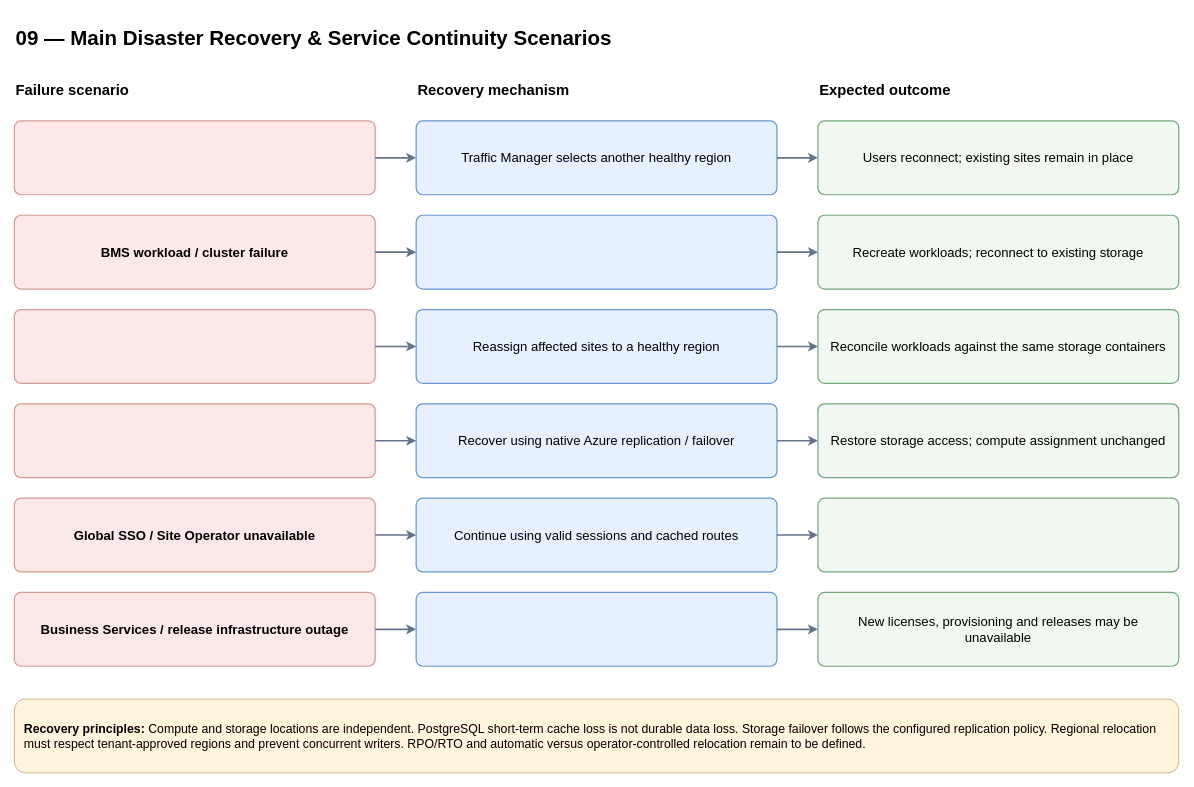
Image size: 1194x787. Some labels were removed from this diagram. The shapes that lost their labels are listed below. From the top down, each one's box as (x1, y1, x2, y2) in pixels, then its label:
(13, 120, 375, 195): Regional entrypoint failure
(415, 214, 777, 289): Regional Site Operator reconciles desired state
(13, 309, 375, 384): Entire execution region unavailable
(13, 403, 375, 478): Storage infrastructure failure
(817, 497, 1179, 572): Existing workloads continue; new login and provisioning paused
(415, 591, 777, 666): Continue running existing licensed software
